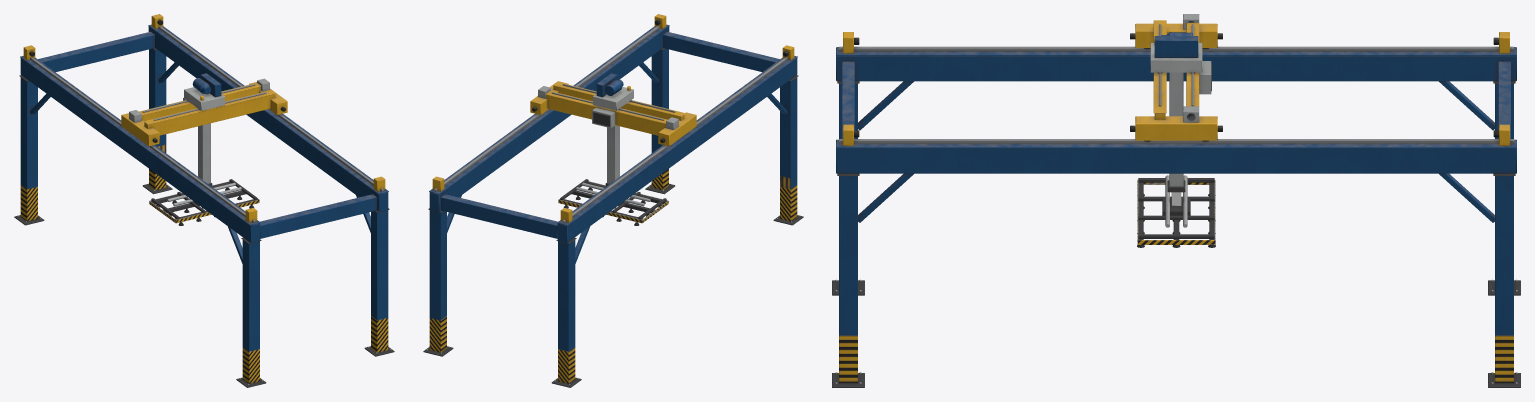
The model's file is GantryStacker.fbx.
The picture shows the model from 3 angles, left to right: view 1: azimuth 30°, elevation 25°; view 2: azimuth 150°, elevation 25°; view 3: azimuth 270°, elevation 25°; orthographic projection. The views are drawn at different scales.
Parts seen in each view (by area): view 1: Runway_E_LOD0, Runway_W_LOD0, Girder_LOD0, Leg_NE_LOD0, Leg_NW_LOD0, Leg_SE_LOD0, EndBeam_N_LOD0, EndBeam_S_LOD0, Trolley_LOD0, Leg_SW_LOD0, Head_LOD0, Saddle_E_LOD0 (+1 smaller); view 2: Runway_E_LOD0, Runway_W_LOD0, Leg_SE_LOD0, Leg_SW_LOD0, Leg_NE_LOD0, Girder_LOD0, EndBeam_S_LOD0, EndBeam_N_LOD0, Leg_NW_LOD0, Trolley_LOD0, Head_LOD0, Saddle_E_LOD0 (+2 smaller); view 3: Runway_W_LOD0, Runway_E_LOD0, Leg_NW_LOD0, Leg_SW_LOD0, Head_LOD0, Trolley_LOD0, Saddle_W_LOD0, Girder_LOD0, Leg_NE_LOD0, Leg_SE_LOD0, Saddle_E_LOD0, EndBeam_N_LOD0 (+1 smaller).
Boxes of the visible parts, box(x1,y1,x2,y2) form: Runway_E_LOD0: box(20, 56, 260, 242); Runway_W_LOD0: box(148, 24, 388, 211); Girder_LOD0: box(139, 83, 275, 135); Leg_NE_LOD0: box(228, 208, 266, 387); Leg_NW_LOD0: box(356, 176, 394, 356); Leg_SE_LOD0: box(14, 45, 50, 225); EndBeam_N_LOD0: box(260, 194, 376, 238); EndBeam_S_LOD0: box(38, 31, 154, 72); Trolley_LOD0: box(184, 73, 224, 186); Leg_SW_LOD0: box(142, 14, 178, 194); Head_LOD0: box(149, 179, 259, 225); Saddle_E_LOD0: box(121, 110, 159, 146); Runway_E_LOD0: box(557, 56, 797, 242); Runway_W_LOD0: box(429, 24, 669, 211); Leg_SE_LOD0: box(551, 208, 589, 387); Leg_SW_LOD0: box(423, 176, 461, 356); Leg_NE_LOD0: box(767, 45, 803, 225); Girder_LOD0: box(545, 82, 684, 135); EndBeam_S_LOD0: box(441, 194, 557, 238); EndBeam_N_LOD0: box(663, 31, 779, 72); Leg_NW_LOD0: box(639, 14, 675, 194); Trolley_LOD0: box(593, 73, 633, 186); Head_LOD0: box(558, 179, 668, 225); Saddle_E_LOD0: box(658, 112, 696, 146); Runway_W_LOD0: box(836, 139, 1516, 173); Runway_E_LOD0: box(836, 46, 1516, 81); Leg_NW_LOD0: box(832, 124, 913, 387); Leg_SW_LOD0: box(1439, 124, 1520, 387); Head_LOD0: box(1137, 175, 1215, 247); Trolley_LOD0: box(1150, 32, 1202, 192); Saddle_W_LOD0: box(1130, 106, 1222, 141); Girder_LOD0: box(1153, 20, 1199, 119); Leg_NE_LOD0: box(832, 32, 913, 295); Leg_SE_LOD0: box(1439, 32, 1520, 295); Saddle_E_LOD0: box(1130, 14, 1222, 49); EndBeam_N_LOD0: box(842, 61, 854, 138).
Size of what is drawn, in the model's own units: 4.6 by 6.08 by 12.6.
1 material, 1 textured.
